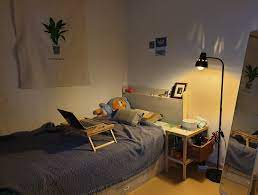Bed: (0, 89, 185, 195)
Lamp: (193, 50, 225, 184)
